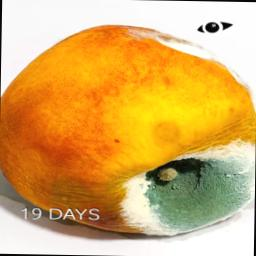Peach Rotten: (0, 18, 256, 227)
